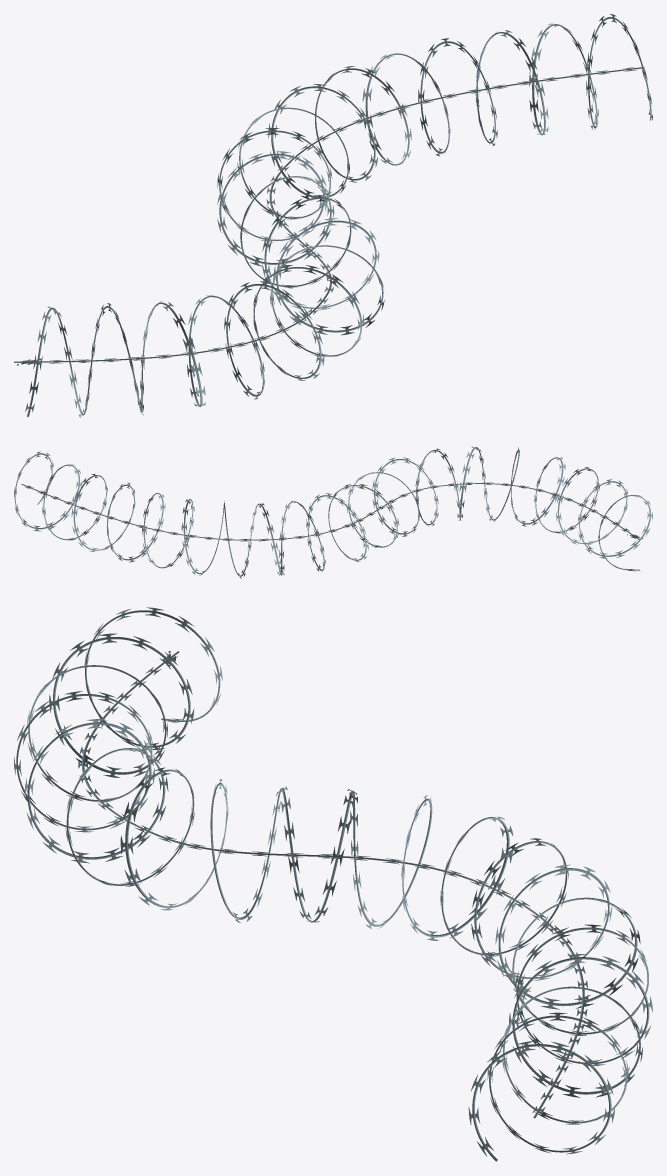
Rendered from razor-wire-model.glb.
3 renders of one model, top to bottom at view 1: azimuth 30°, elevation 25°; view 2: azimuth 150°, elevation 25°; view 3: azimuth 270°, elevation 25°, orthographic. The views are drawn at different scales.
Parts seen in each view (by area): view 1: Node1; view 2: Node1; view 3: Node1.
Part boxes in pixels (box(x1,y1,x2,y2)): Node1: box(14, 14, 652, 417); Node1: box(14, 446, 652, 578); Node1: box(14, 607, 652, 1161).
Size of the model in its own units: 3.26 by 0.4175 by 1.89.
